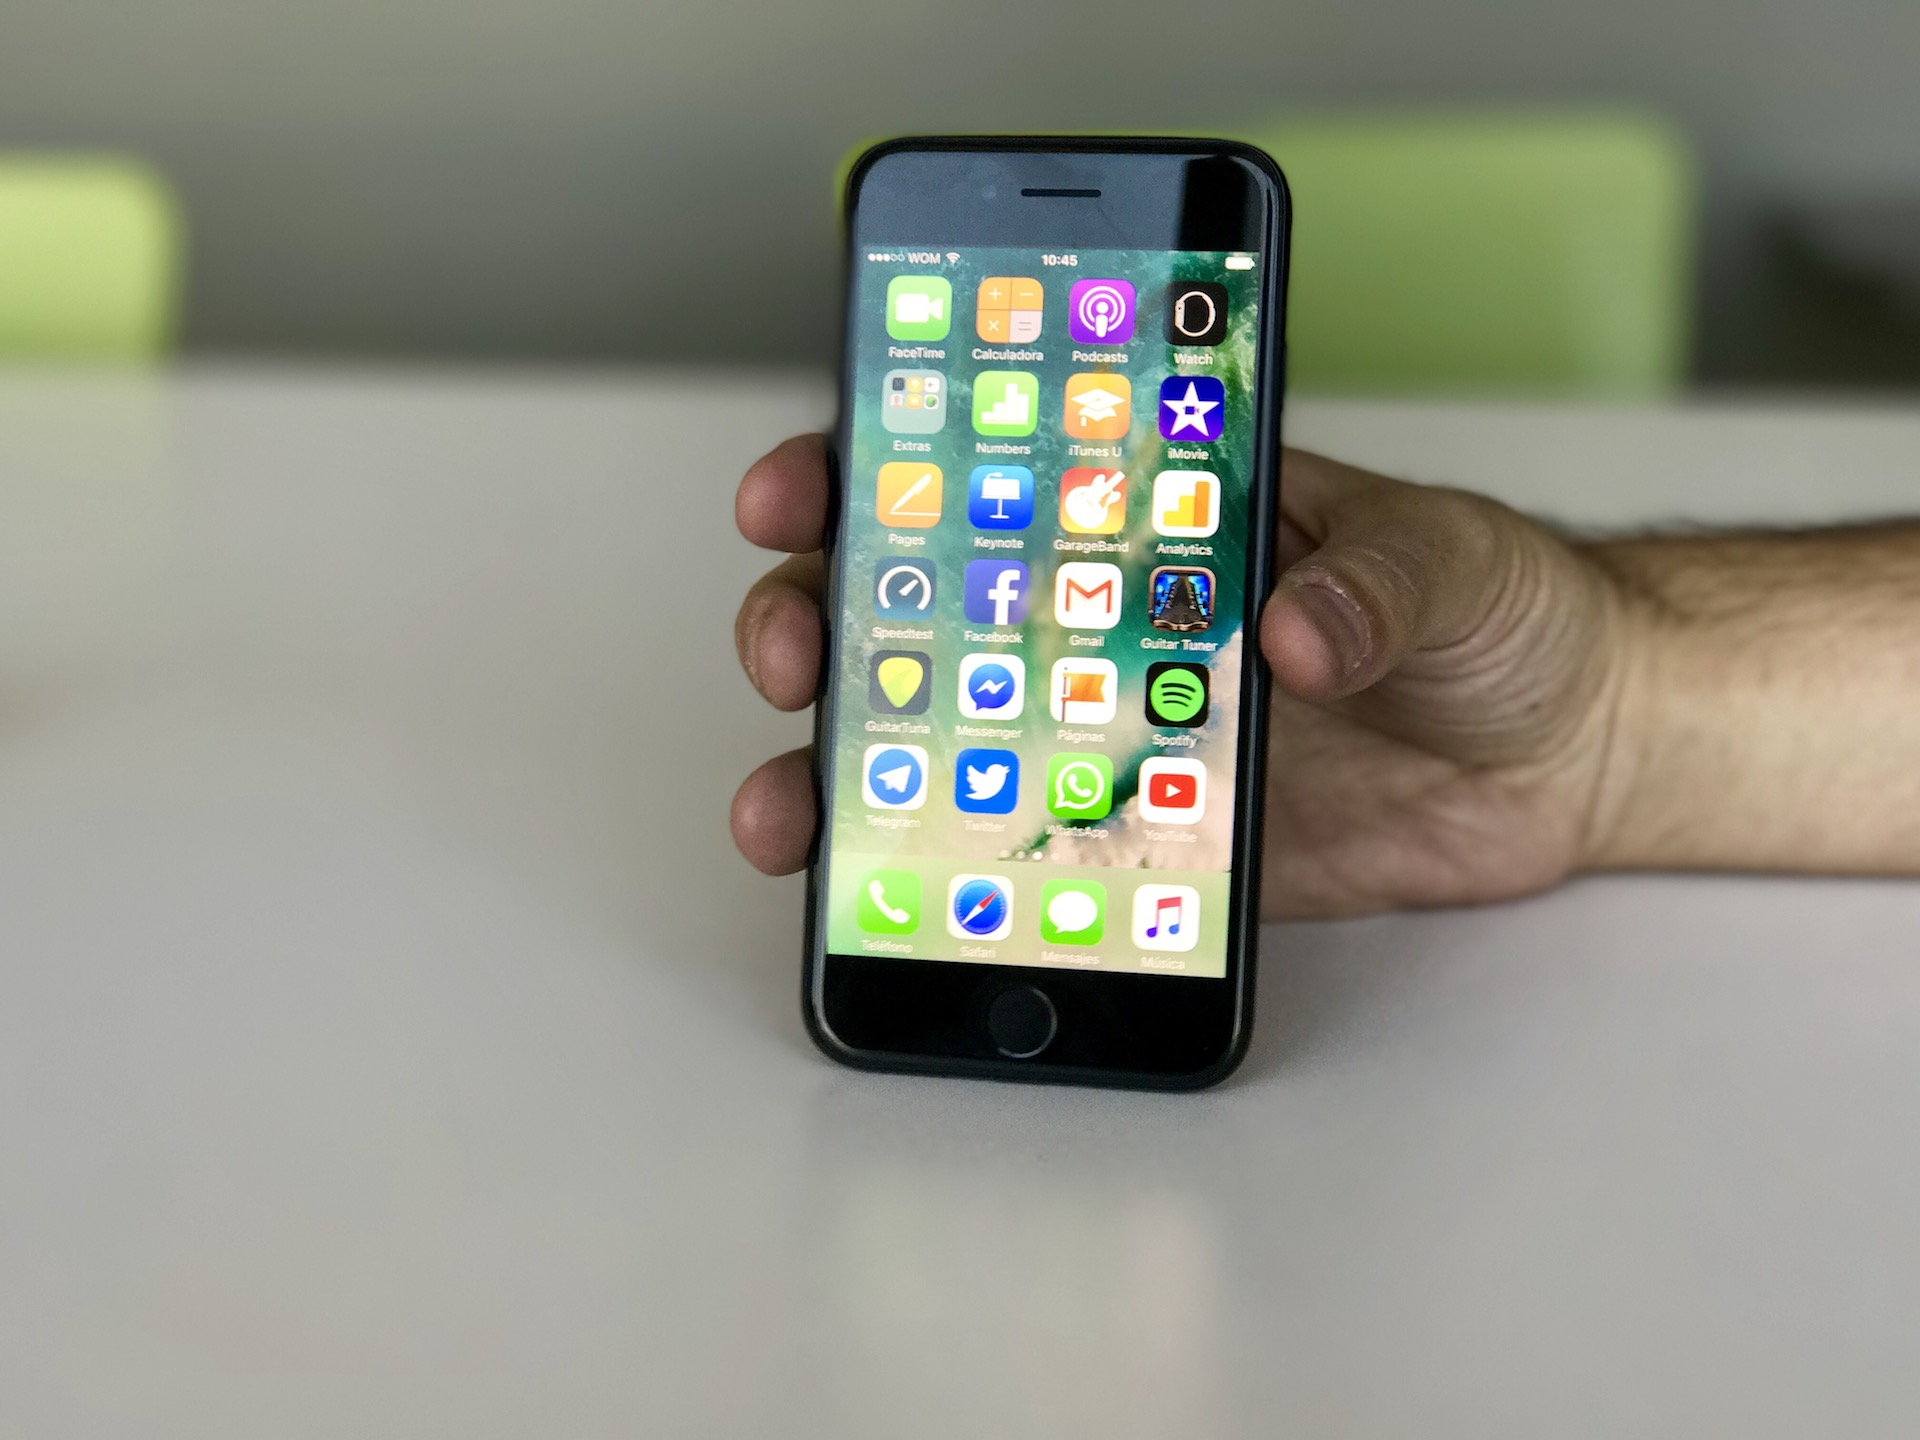smartphone: (797, 130, 1300, 1097)
